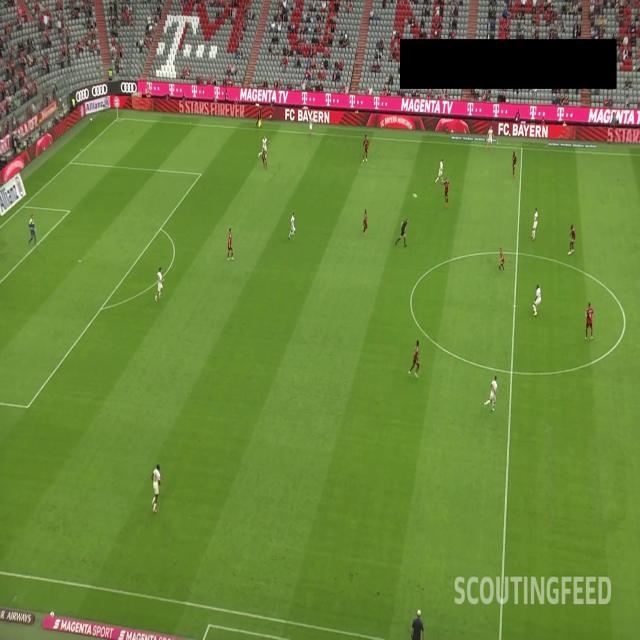ball: (414, 189, 418, 203)
player: (148, 456, 162, 516), (408, 337, 422, 383), (152, 266, 167, 305), (484, 374, 498, 414), (531, 279, 544, 320), (25, 209, 38, 249), (496, 232, 508, 272), (583, 298, 594, 341), (226, 220, 237, 262), (285, 209, 298, 242), (360, 203, 371, 240), (432, 157, 446, 186), (360, 129, 370, 167), (567, 218, 576, 258), (257, 134, 270, 160), (484, 127, 496, 152), (304, 112, 316, 136), (258, 143, 269, 169), (530, 205, 538, 240), (441, 180, 451, 208), (510, 146, 517, 178)
referee: (393, 212, 410, 250), (253, 102, 266, 132)
